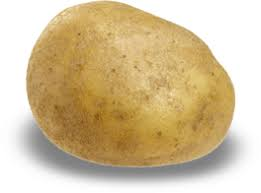potato: (25, 2, 239, 168)
